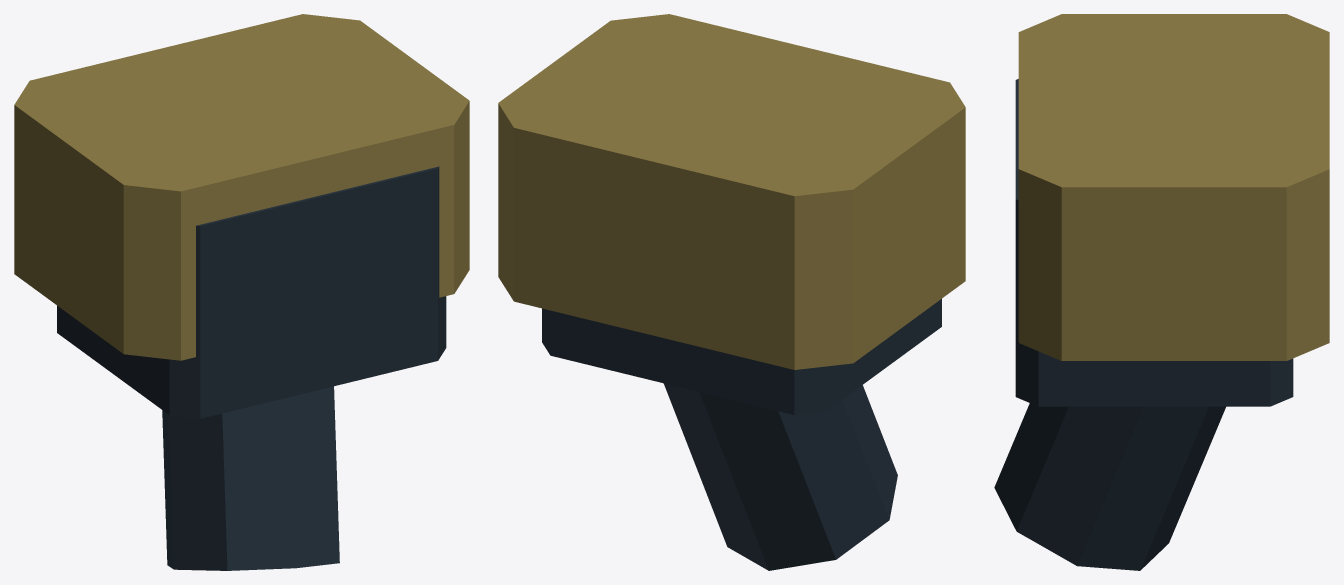
Rendered from enemy_gunner_lod_upper_arm_l.obj.
The picture shows the model from 3 angles, left to right: view 1: azimuth 30°, elevation 25°; view 2: azimuth 150°, elevation 25°; view 3: azimuth 270°, elevation 25°; orthographic projection. The views are drawn at different scales.
Bounding box in the file's own units: 0.62 × 0.7669 × 0.5071.
